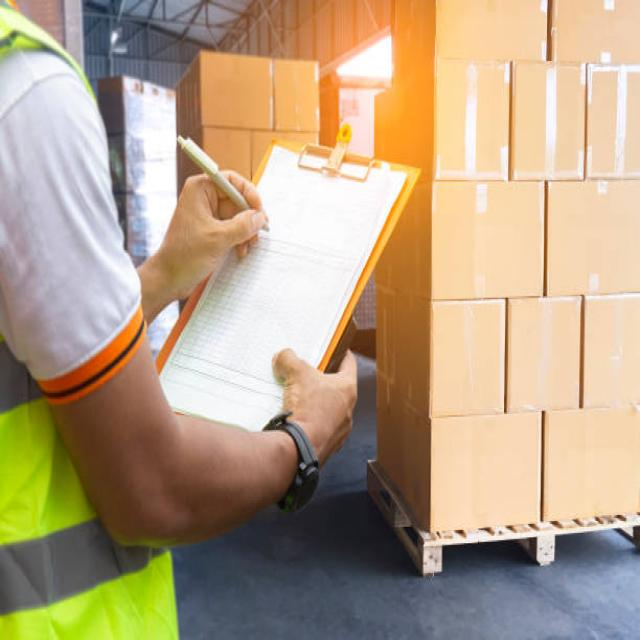Wooden-Pallets: (360, 460, 640, 582)
